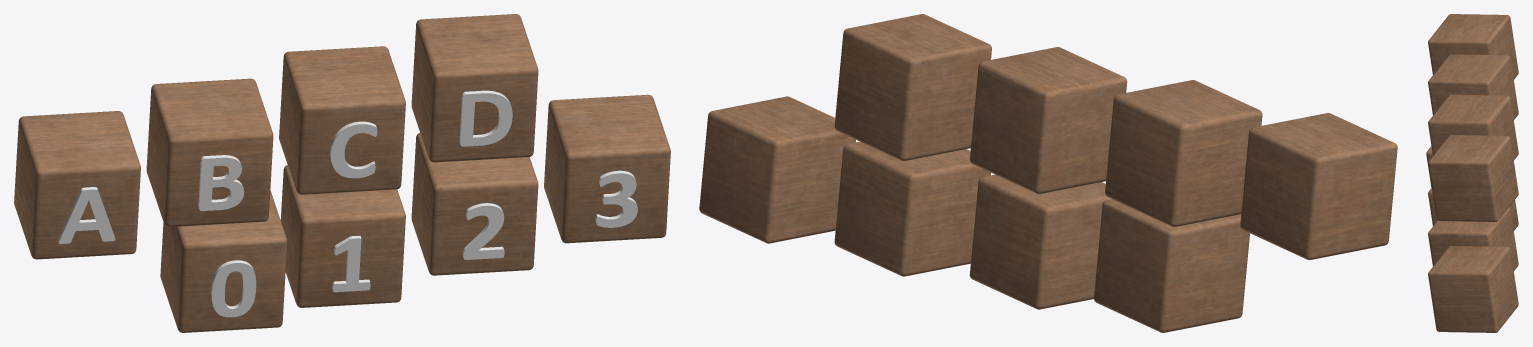
Rendered from blocks.fbx.
The picture shows the model from 3 angles, left to right: view 1: azimuth 30°, elevation 25°; view 2: azimuth 150°, elevation 25°; view 3: azimuth 270°, elevation 25°; orthographic projection. The views are drawn at different scales.
Parts seen in each view (by area): view 1: C_Block, 3_Block, A_Block, D_Block, B_Block, 1_Block, 2_Block, 0_Block, B_Letter, D_Letter, 0_Num, A_Letter (+4 smaller); view 2: A_Block, D_Block, C_Block, B_Block, 3_Block, 0_Block, 2_Block, 1_Block; view 3: D_Block, 3_Block, A_Block, C_Block, B_Block, 2_Block, 1_Block, 0_Block.
Part boxes in pixels (left/top/right/bottom): C_Block: left=279, top=46, right=405, bottom=194; 3_Block: left=544, top=94, right=670, bottom=243; A_Block: left=14, top=111, right=140, bottom=259; D_Block: left=411, top=14, right=538, bottom=162; B_Block: left=146, top=78, right=273, bottom=227; 1_Block: left=280, top=165, right=405, bottom=307; 2_Block: left=411, top=133, right=538, bottom=275; 0_Block: left=160, top=190, right=287, bottom=332; B_Letter: left=198, top=155, right=244, bottom=211; D_Letter: left=459, top=90, right=512, bottom=146; 0_Num: left=211, top=260, right=256, bottom=317; A_Letter: left=58, top=187, right=115, bottom=243; A_Block: left=1240, top=113, right=1397, bottom=259; D_Block: left=834, top=14, right=991, bottom=161; C_Block: left=969, top=47, right=1127, bottom=193; B_Block: left=1105, top=80, right=1262, bottom=226; 3_Block: left=699, top=96, right=855, bottom=243; 0_Block: left=1094, top=199, right=1249, bottom=332; 2_Block: left=834, top=141, right=990, bottom=276; 1_Block: left=969, top=174, right=1111, bottom=309; D_Block: left=1428, top=135, right=1518, bottom=221; 3_Block: left=1428, top=245, right=1518, bottom=332; A_Block: left=1428, top=14, right=1518, bottom=79; C_Block: left=1428, top=94, right=1518, bottom=160; B_Block: left=1428, top=54, right=1518, bottom=119; 2_Block: left=1428, top=207, right=1518, bottom=271; 1_Block: left=1428, top=188, right=1518, bottom=230; 0_Block: left=1426, top=146, right=1432, bottom=187.
Size of the model in its own units: 17.1 by 5.63 by 3.39.
